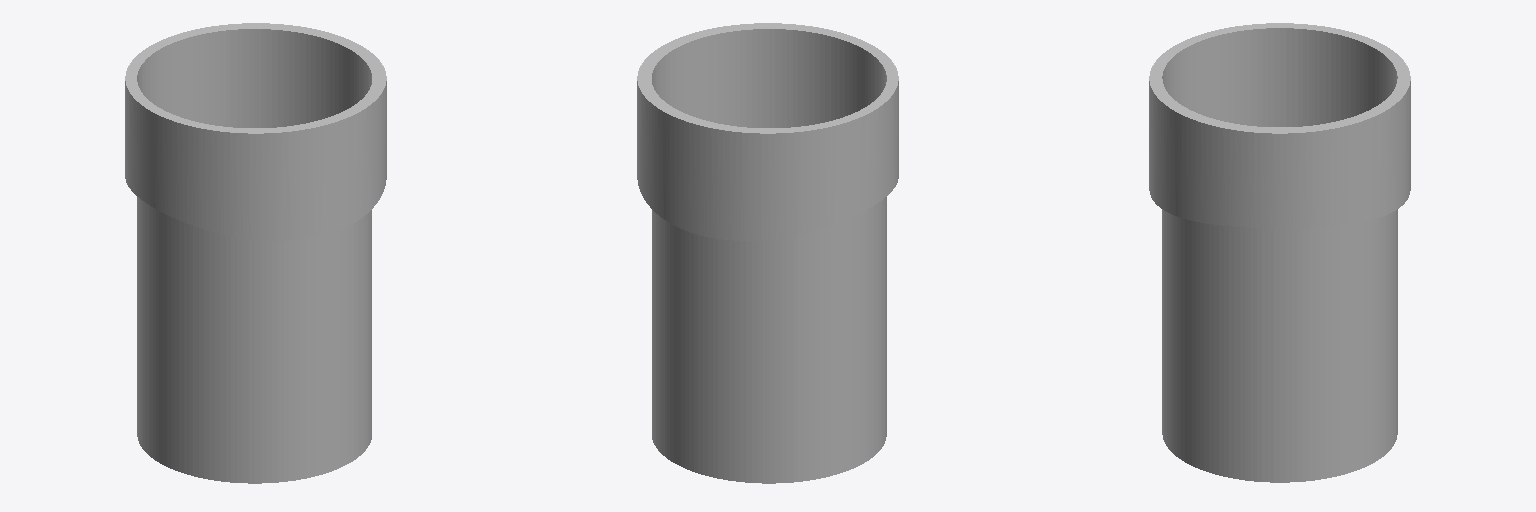
The model's file is separator_dirty_oil.obj.
3 renders of one model, left to right at view 1: azimuth 30°, elevation 25°; view 2: azimuth 150°, elevation 25°; view 3: azimuth 270°, elevation 25°, orthographic.
Visible parts, largest first — view 1: obj1; view 2: obj1; view 3: obj1.
Part boxes in pixels (x1,y1,x2,y2): obj1: (125,23,386,483); obj1: (637,23,898,483); obj1: (1149,23,1410,482).
Bounding box in the file's own units: 2 × 3 × 2.